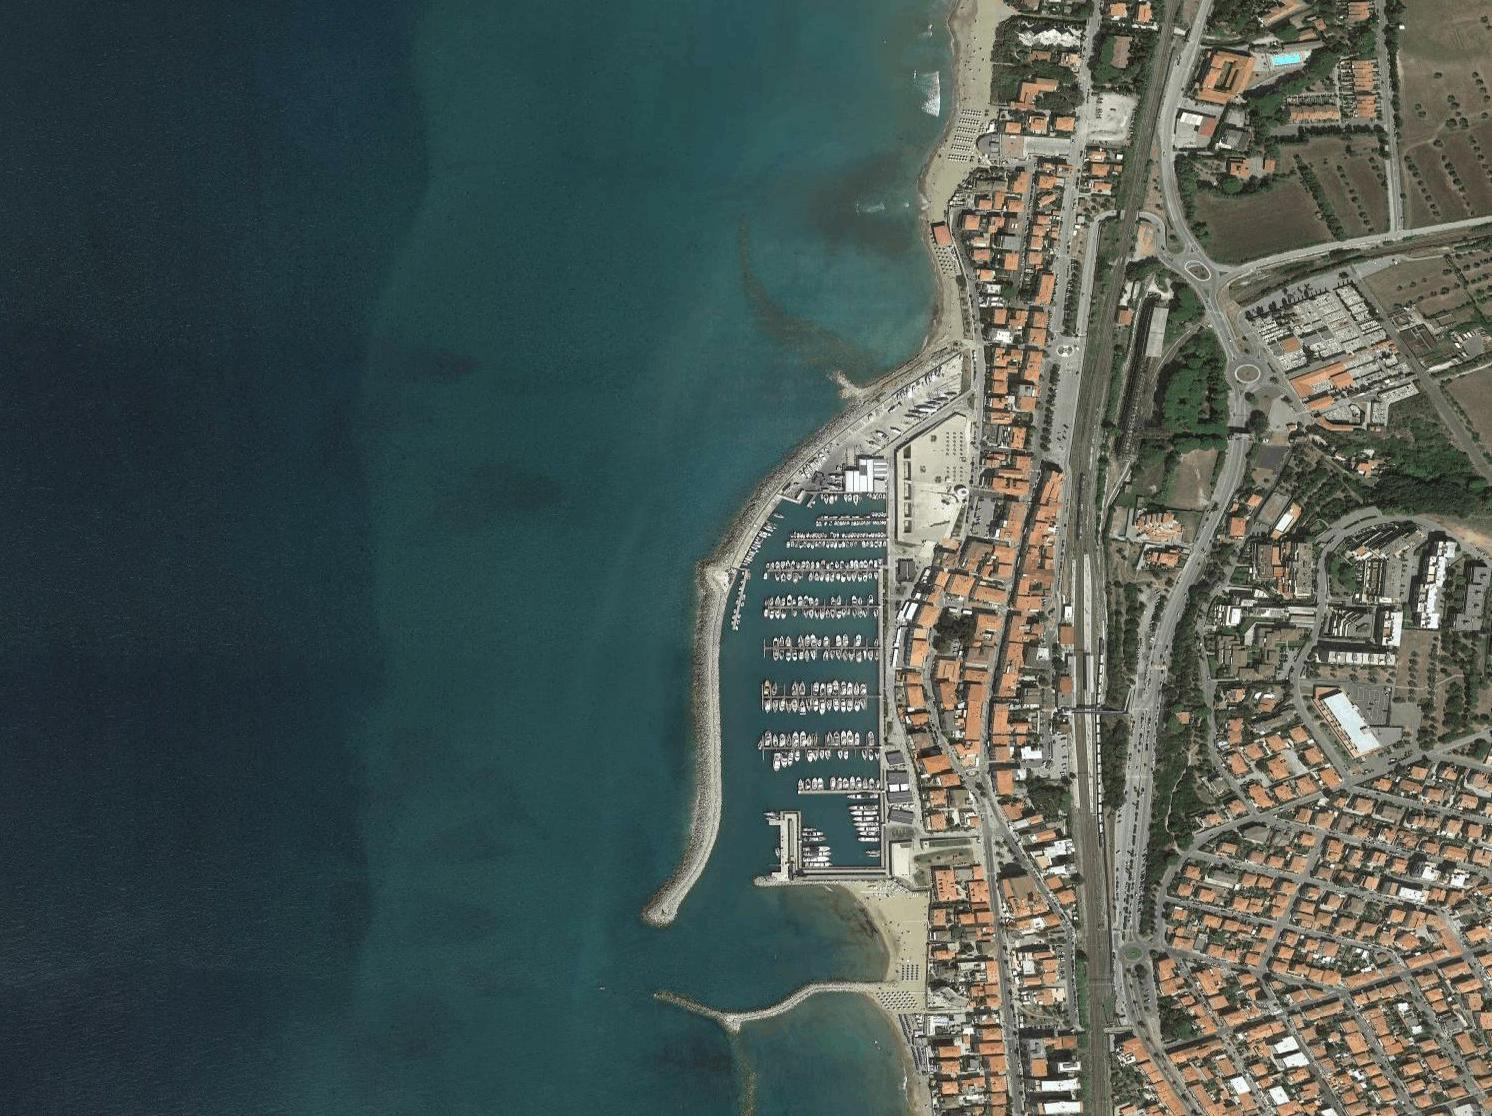harbor: (643, 352, 953, 1052)
train_station: (1060, 627, 1113, 802)
